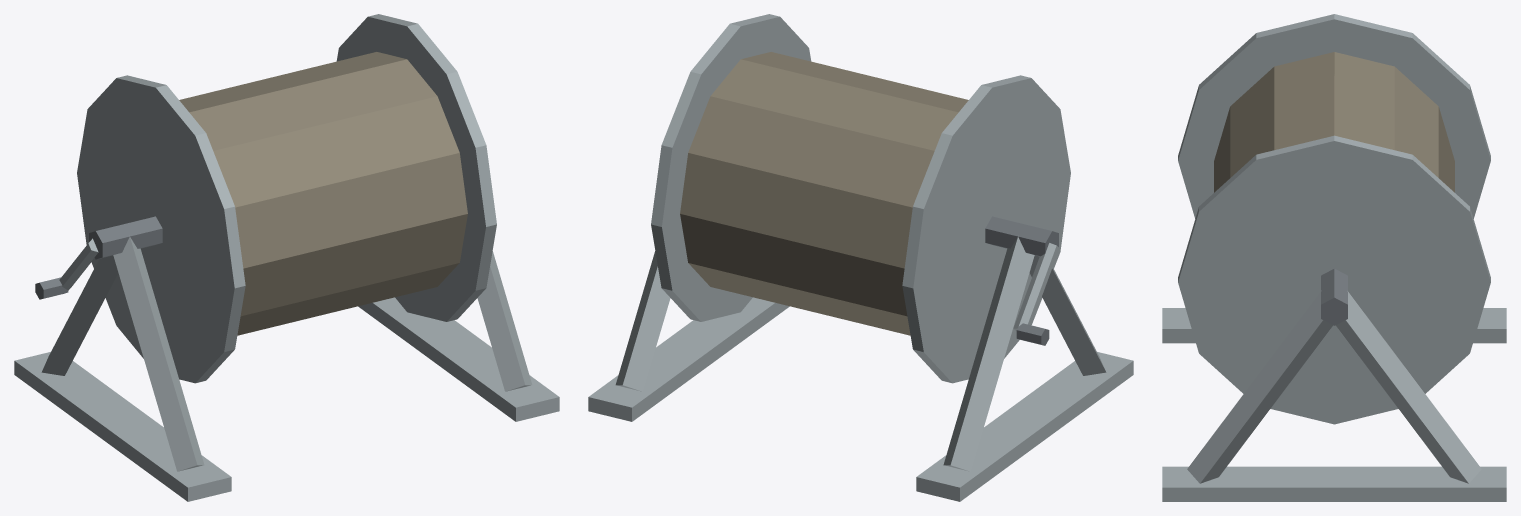
3 renders of one model, left to right at view 1: azimuth 30°, elevation 25°; view 2: azimuth 150°, elevation 25°; view 3: azimuth 270°, elevation 25°, orthographic.
Visible parts, largest first — view 1: component.root.mesh; view 2: component.root.mesh; view 3: component.root.mesh.
Part boxes in pixels (x1,y1,x2,y2): component.root.mesh: [14, 14, 559, 501]; component.root.mesh: [588, 14, 1133, 501]; component.root.mesh: [1162, 14, 1506, 501].
Bounding box in the file's own units: 1.49 × 1.18 × 1.1.
